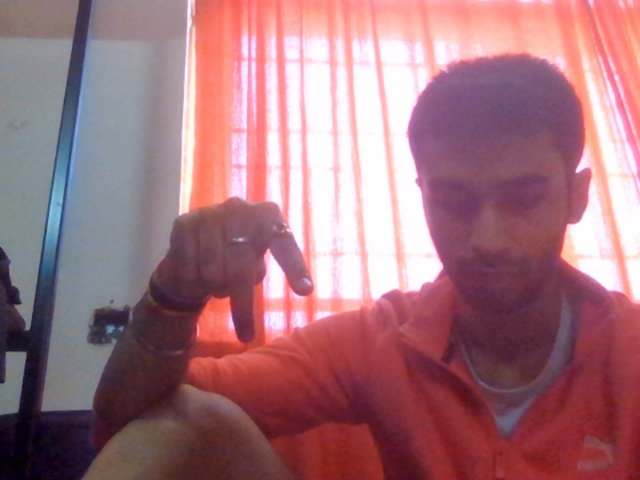P: (139, 174, 350, 369)
